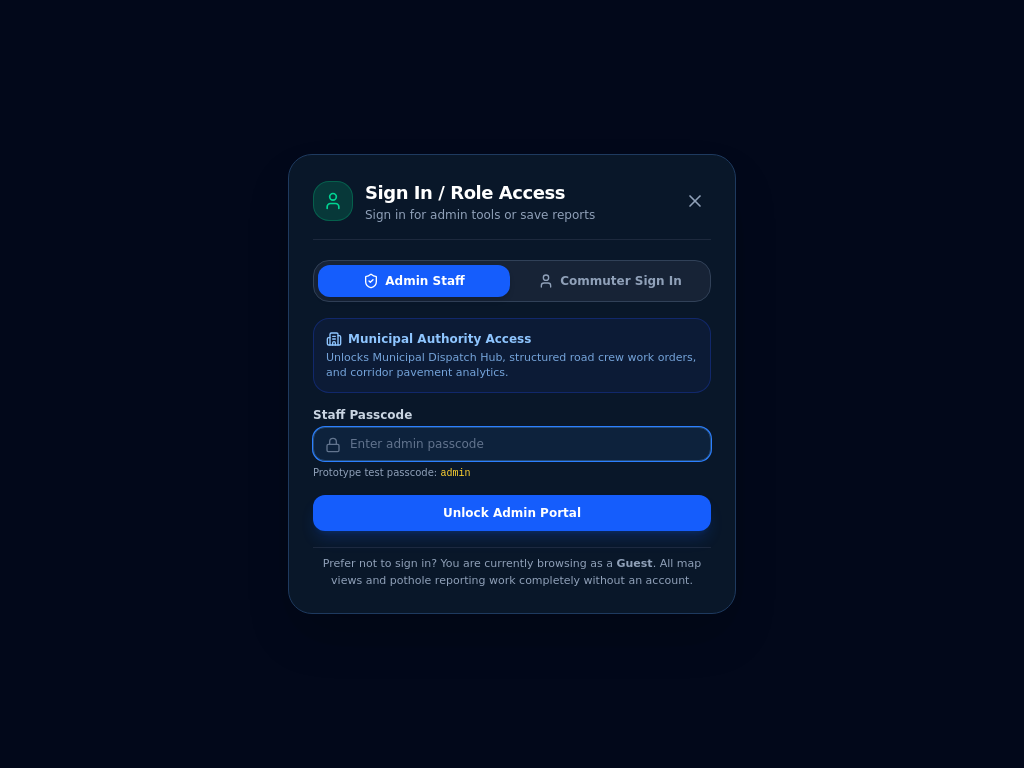
Test: AuthContext and AuthModal › should render AuthModal and allow switching tabs
Expected: the heading "Sign In / Role Access" is shown, [365,179,595,207]
Expected: the text "Admin Staff" is shown, [385,273,465,289]
Note: Switch to Commuter Tab
Click the button "Commuter Sign In".
click(610, 281)  # box [514,265,706,297]
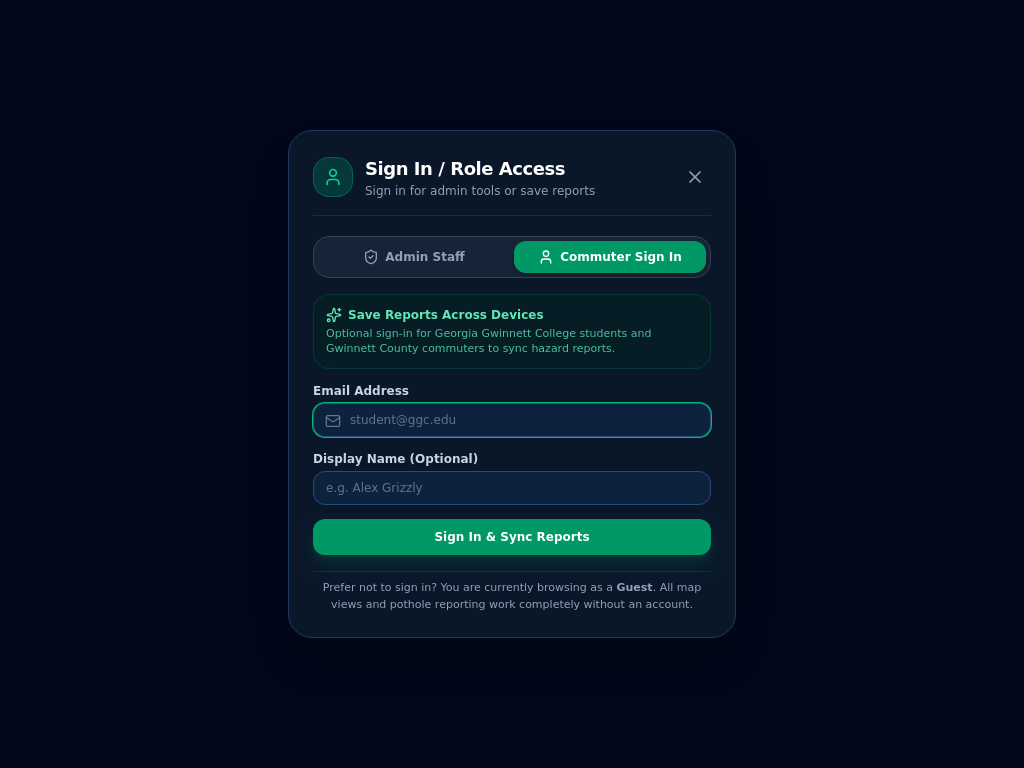
Expected: the field with placeholder "student@ggc.edu" is shown, [313,403,711,437]
